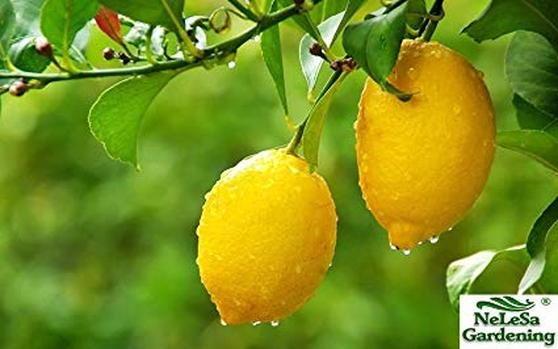lemon: (198, 132, 348, 344), (354, 49, 500, 258)
